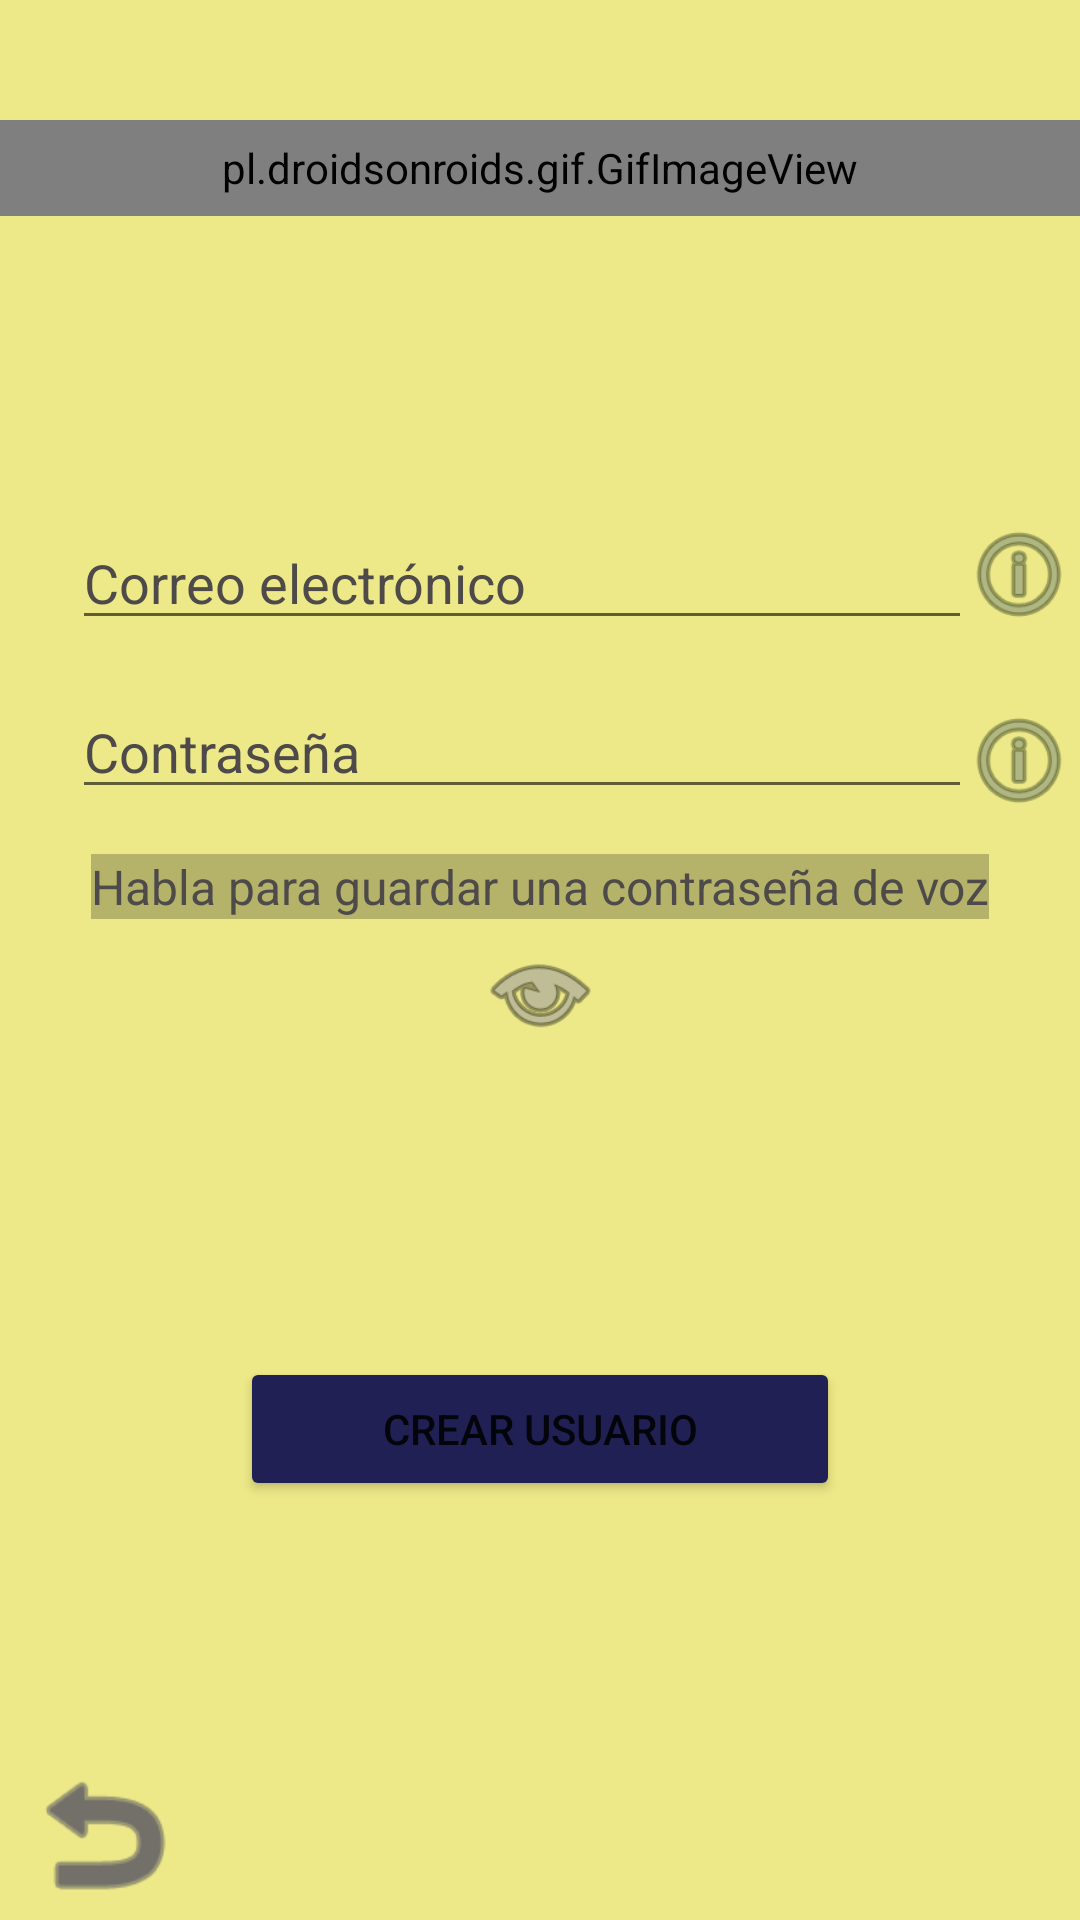

Icon bounding boxes for this 1080 × 1920 phone screenshot, format (x1, y1, x2, y2):
info details: (977, 532, 1061, 617), (977, 718, 1061, 803)
revert: (46, 1782, 165, 1890)
view: (490, 964, 591, 1027)
